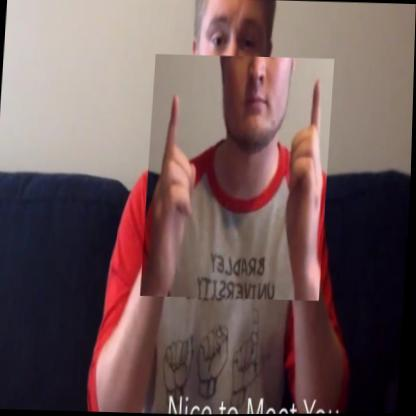NiceToMeetYou: (142, 53, 335, 302)
